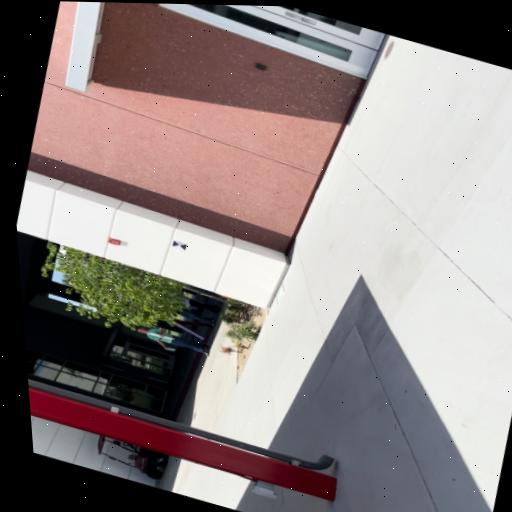target6: (171, 239, 187, 250)
